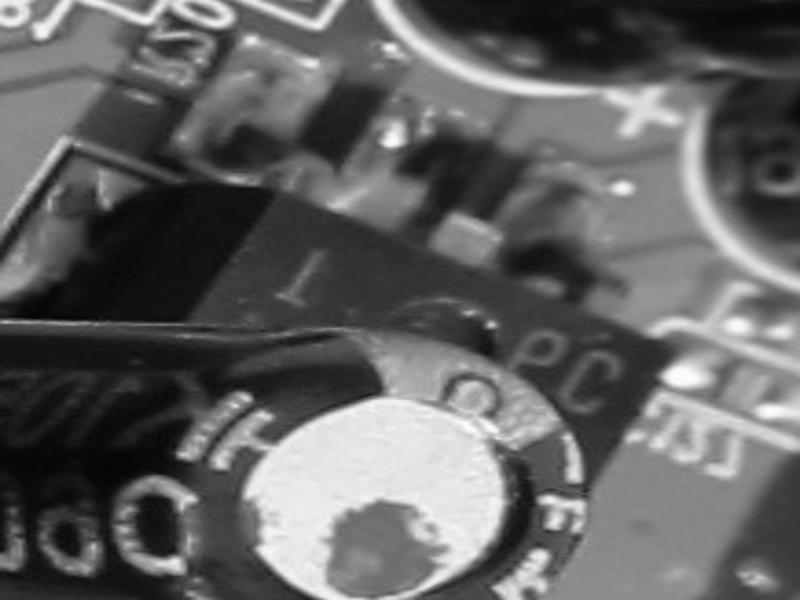Capacitor: (1, 318, 593, 600)
